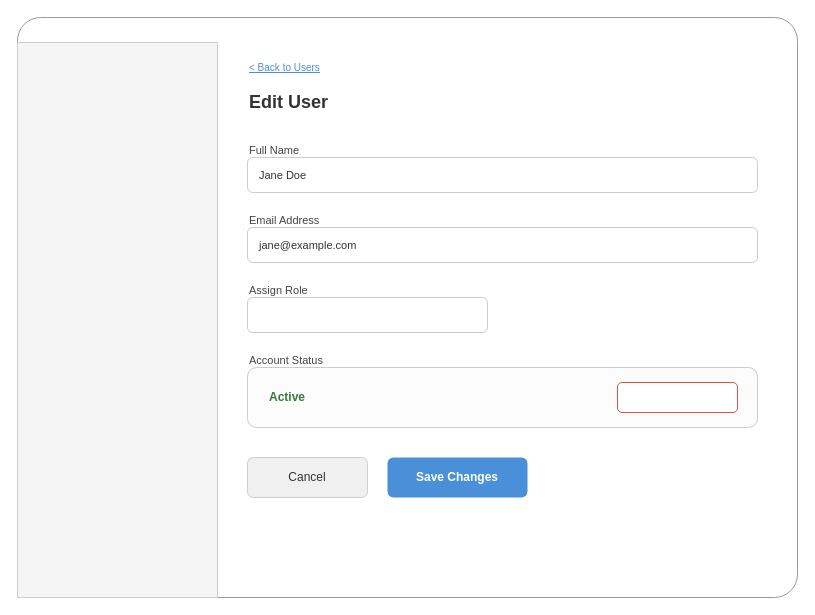
This 815x615 diagram has some shape labels left out. The shapes that lost their labels are listed below. From the top down, each one's box as (x1, y1, x2, y2) in pixels, then its label:
(246, 296, 488, 332): Admin ▼
(616, 382, 738, 412): Deactivate User
